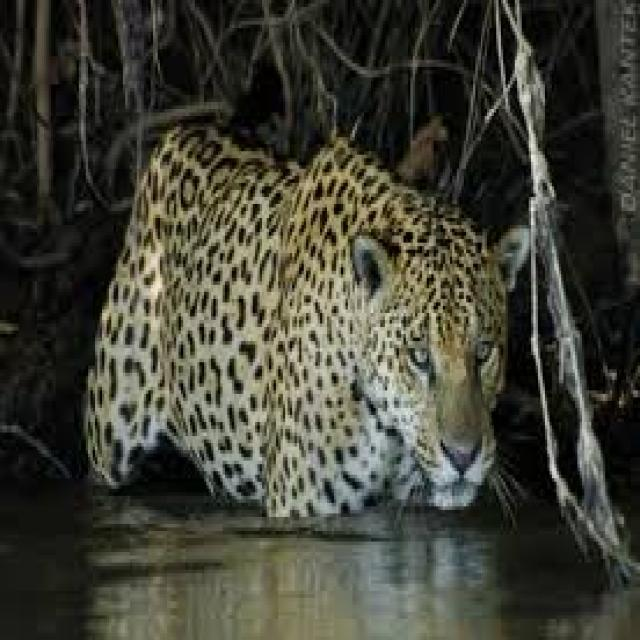Jaguar: (77, 116, 520, 528)
